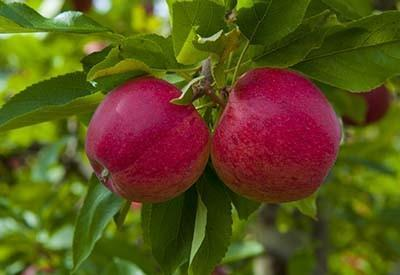apple: (214, 72, 340, 202), (88, 75, 210, 200)
